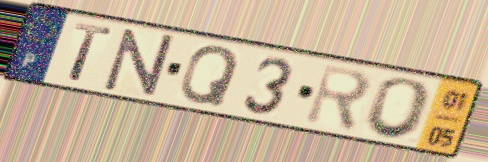3: (241, 56, 295, 117)
N: (101, 27, 177, 99)
O: (361, 75, 436, 143)
Q: (177, 44, 243, 110)
R: (301, 61, 374, 135)
T: (66, 20, 116, 85)
